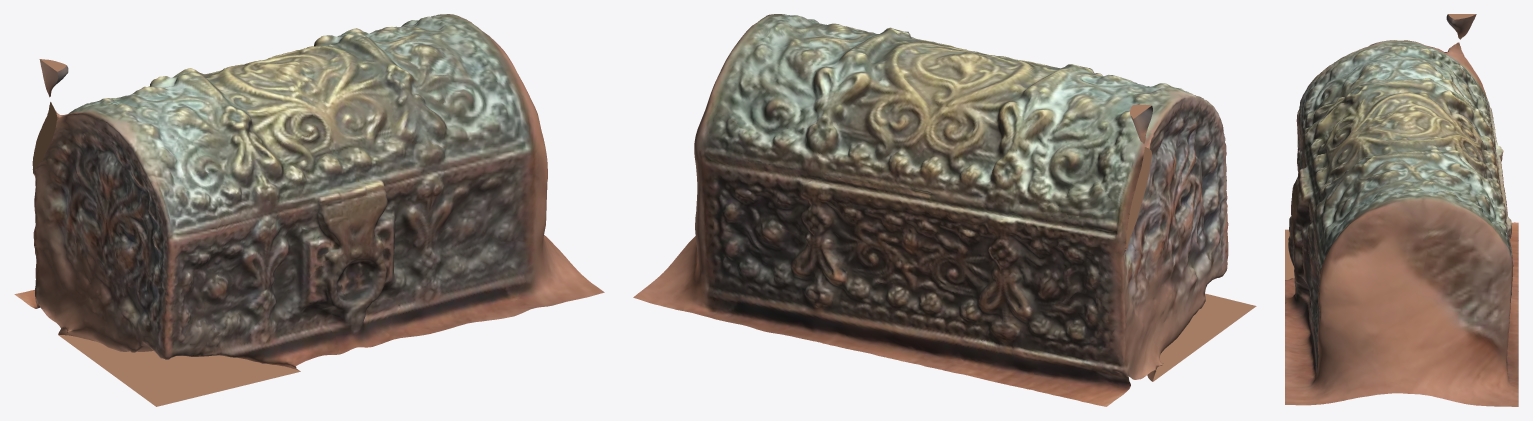
The model's file is ptp_cofre.glb.
3 views of the same model, side by side, from view 1: azimuth 30°, elevation 25°; view 2: azimuth 150°, elevation 25°; view 3: azimuth 270°, elevation 25° (orthographic). The views are drawn at different scales.
Parts seen in each view (by area): view 1: 3DModel; view 2: 3DModel; view 3: 3DModel.
Boxes of the visible parts, bbox=[...] form: 3DModel: bbox=[14, 14, 604, 406]; 3DModel: bbox=[633, 14, 1256, 406]; 3DModel: bbox=[1285, 14, 1518, 406].
Size of the model in its own units: 0.6903 by 0.3861 by 0.3793.
Materials: 1 (1 with a texture image).
